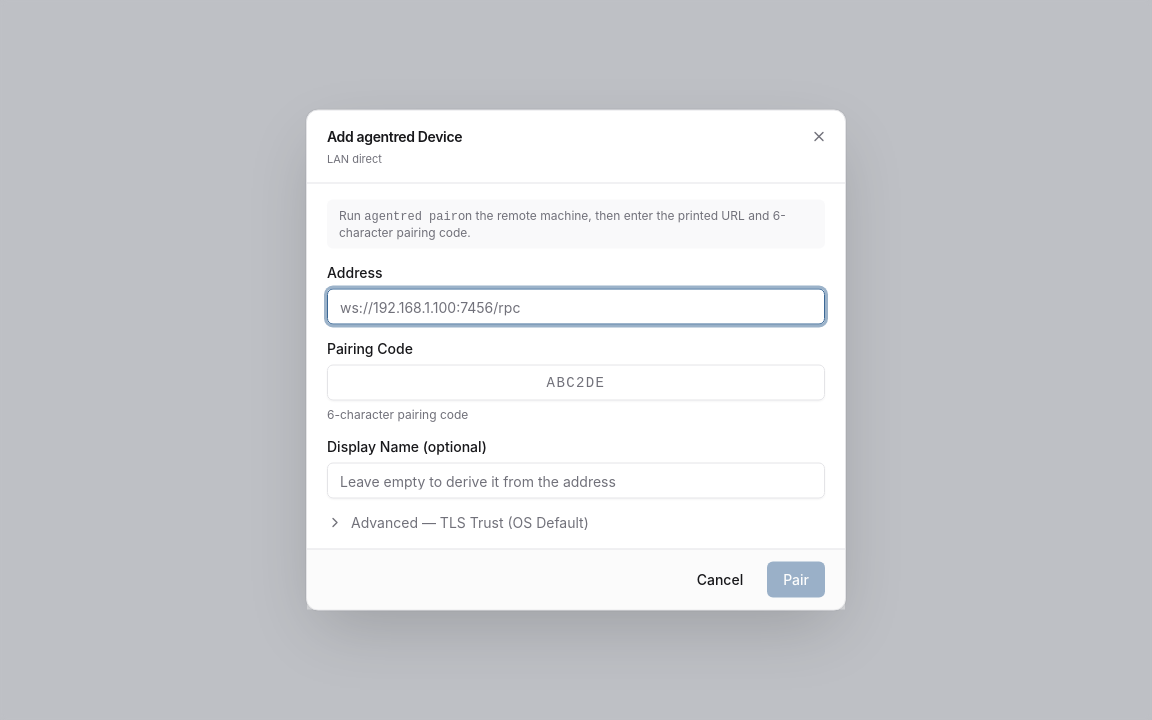
AddDeviceDialog › keeps six-character pairing codes without alphabet validation
Type "ws://h/rpc" into the field with placeholder "ws://192.168.1.100:7456/rpc". click: (576, 306)
box: [327, 288, 825, 324]
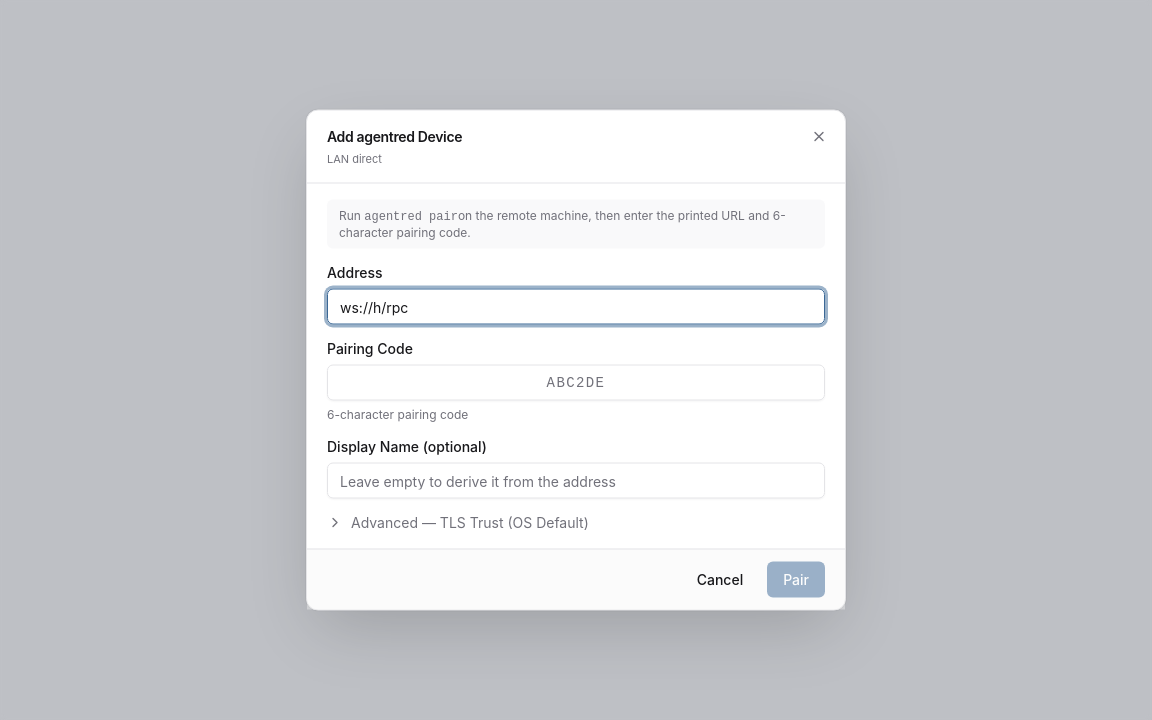
Type "O01I89" into the field with placeholder "ABC2DE". click: (576, 382)
box: [327, 364, 825, 400]
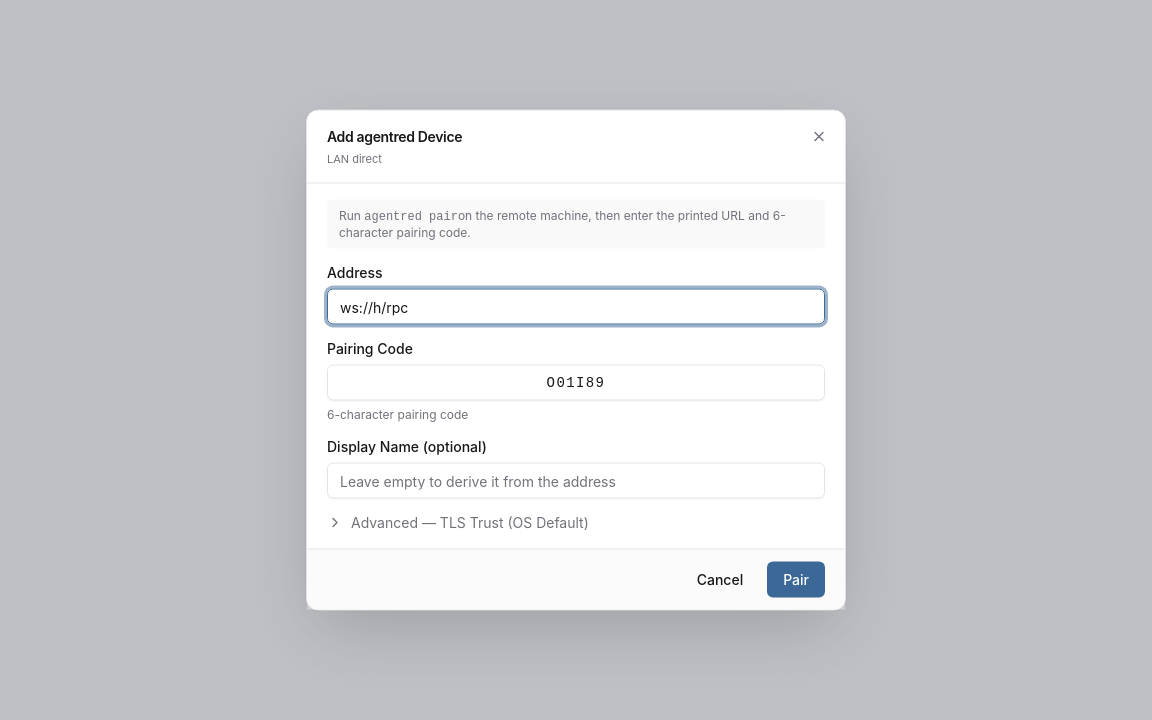
Check: the button "Pair" is enabled, box [767, 562, 825, 598]
